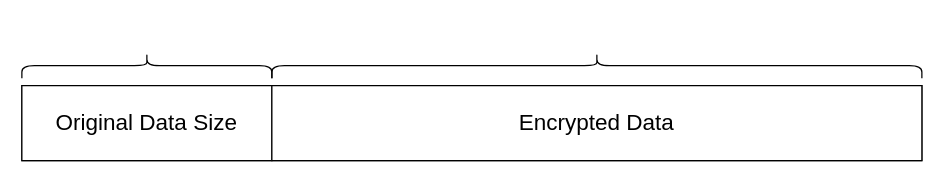
Image size: 944x183. Some labels were removed from this diagram. The centre of each missing label's shape, as x and y in pixels:
8 byte: the point at 146,65
|Data| + |Padding|: the point at 596,65
